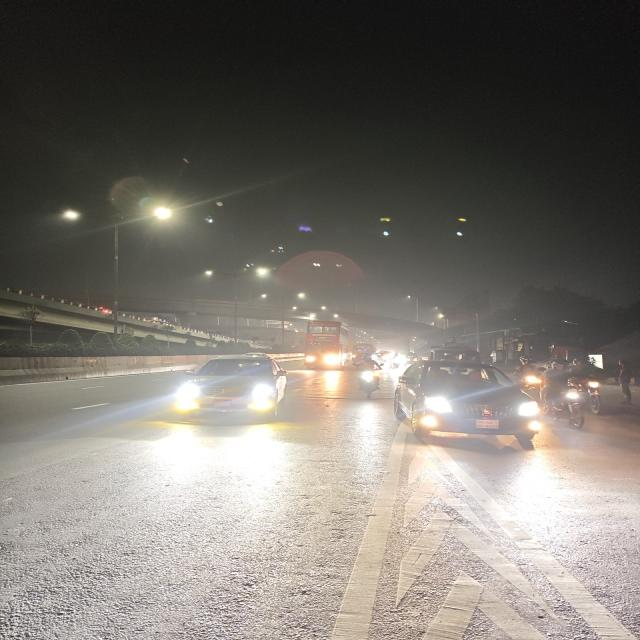bus: (300, 321, 350, 371)
car: (392, 358, 548, 456), (168, 352, 296, 425)
motorcycle: (554, 357, 608, 429), (352, 357, 388, 399), (512, 356, 547, 392)
pedestrian: (613, 358, 639, 407)
